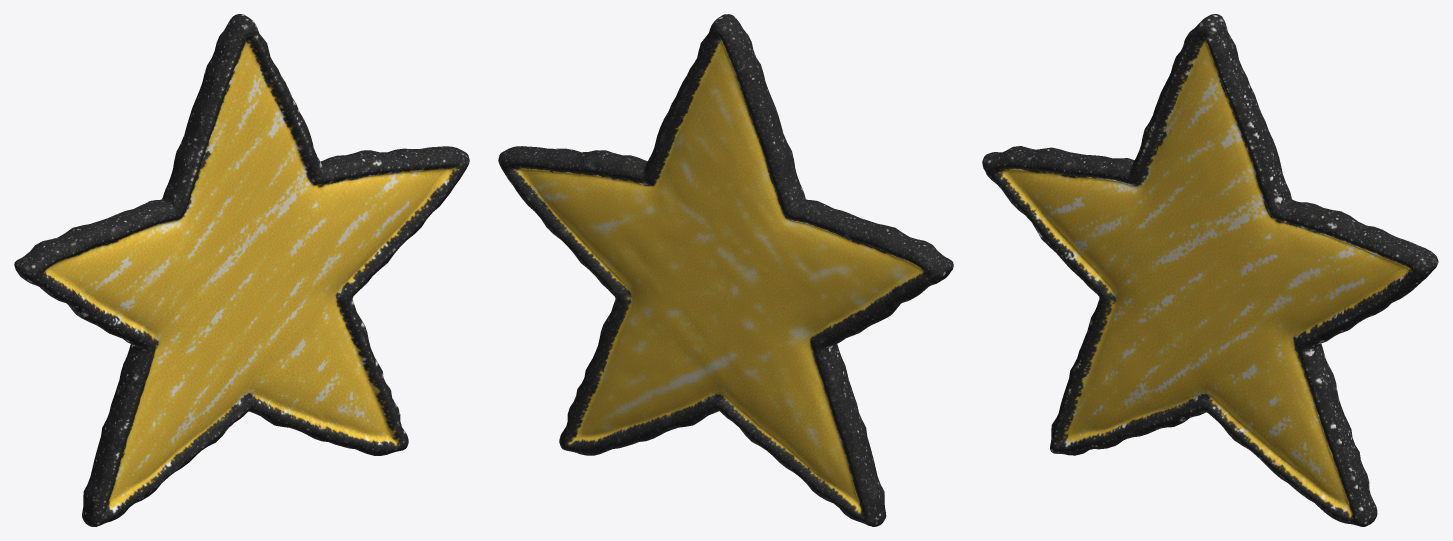
The model's file is star.glb.
3 views of the same model, side by side, from view 1: azimuth 30°, elevation 25°; view 2: azimuth 150°, elevation 25°; view 3: azimuth 330°, elevation 25° (orthographic).
Visible parts, largest first — view 1: tripo_node_e0f8e693-b21c-45b3-bb83-0f1b4d2f3678; view 2: tripo_node_e0f8e693-b21c-45b3-bb83-0f1b4d2f3678; view 3: tripo_node_e0f8e693-b21c-45b3-bb83-0f1b4d2f3678.
Boxes of the visible parts, box(x1,y1,x2,y2) form: tripo_node_e0f8e693-b21c-45b3-bb83-0f1b4d2f3678: box(14, 14, 469, 526); tripo_node_e0f8e693-b21c-45b3-bb83-0f1b4d2f3678: box(498, 14, 953, 526); tripo_node_e0f8e693-b21c-45b3-bb83-0f1b4d2f3678: box(982, 14, 1438, 526).
Size of the model in its own units: 0.9806 by 0.9808 by 0.0709.
Materials: 1 (1 with a texture image).
